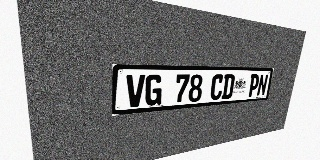7: (173, 74, 190, 104)
8: (188, 74, 204, 102)
C: (209, 74, 224, 100)
D: (221, 74, 235, 99)
G: (145, 74, 163, 106)
N: (256, 74, 269, 96)
P: (247, 74, 260, 97)
V: (126, 74, 145, 108)
